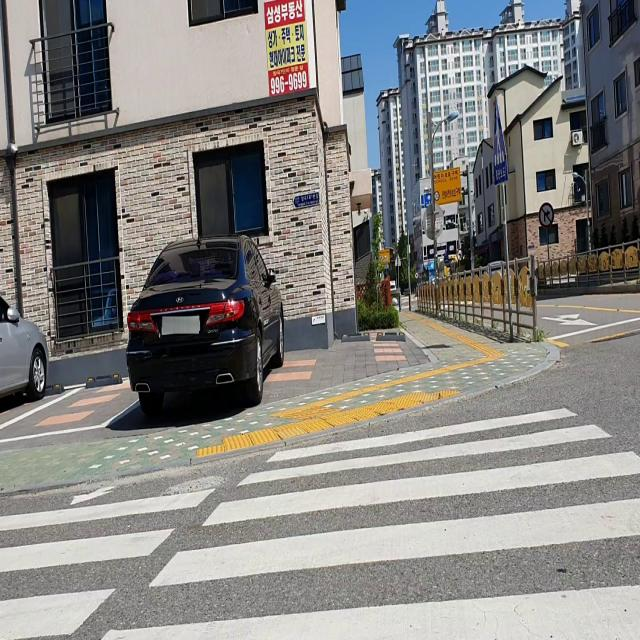횡단보도: (1, 403, 638, 635)
